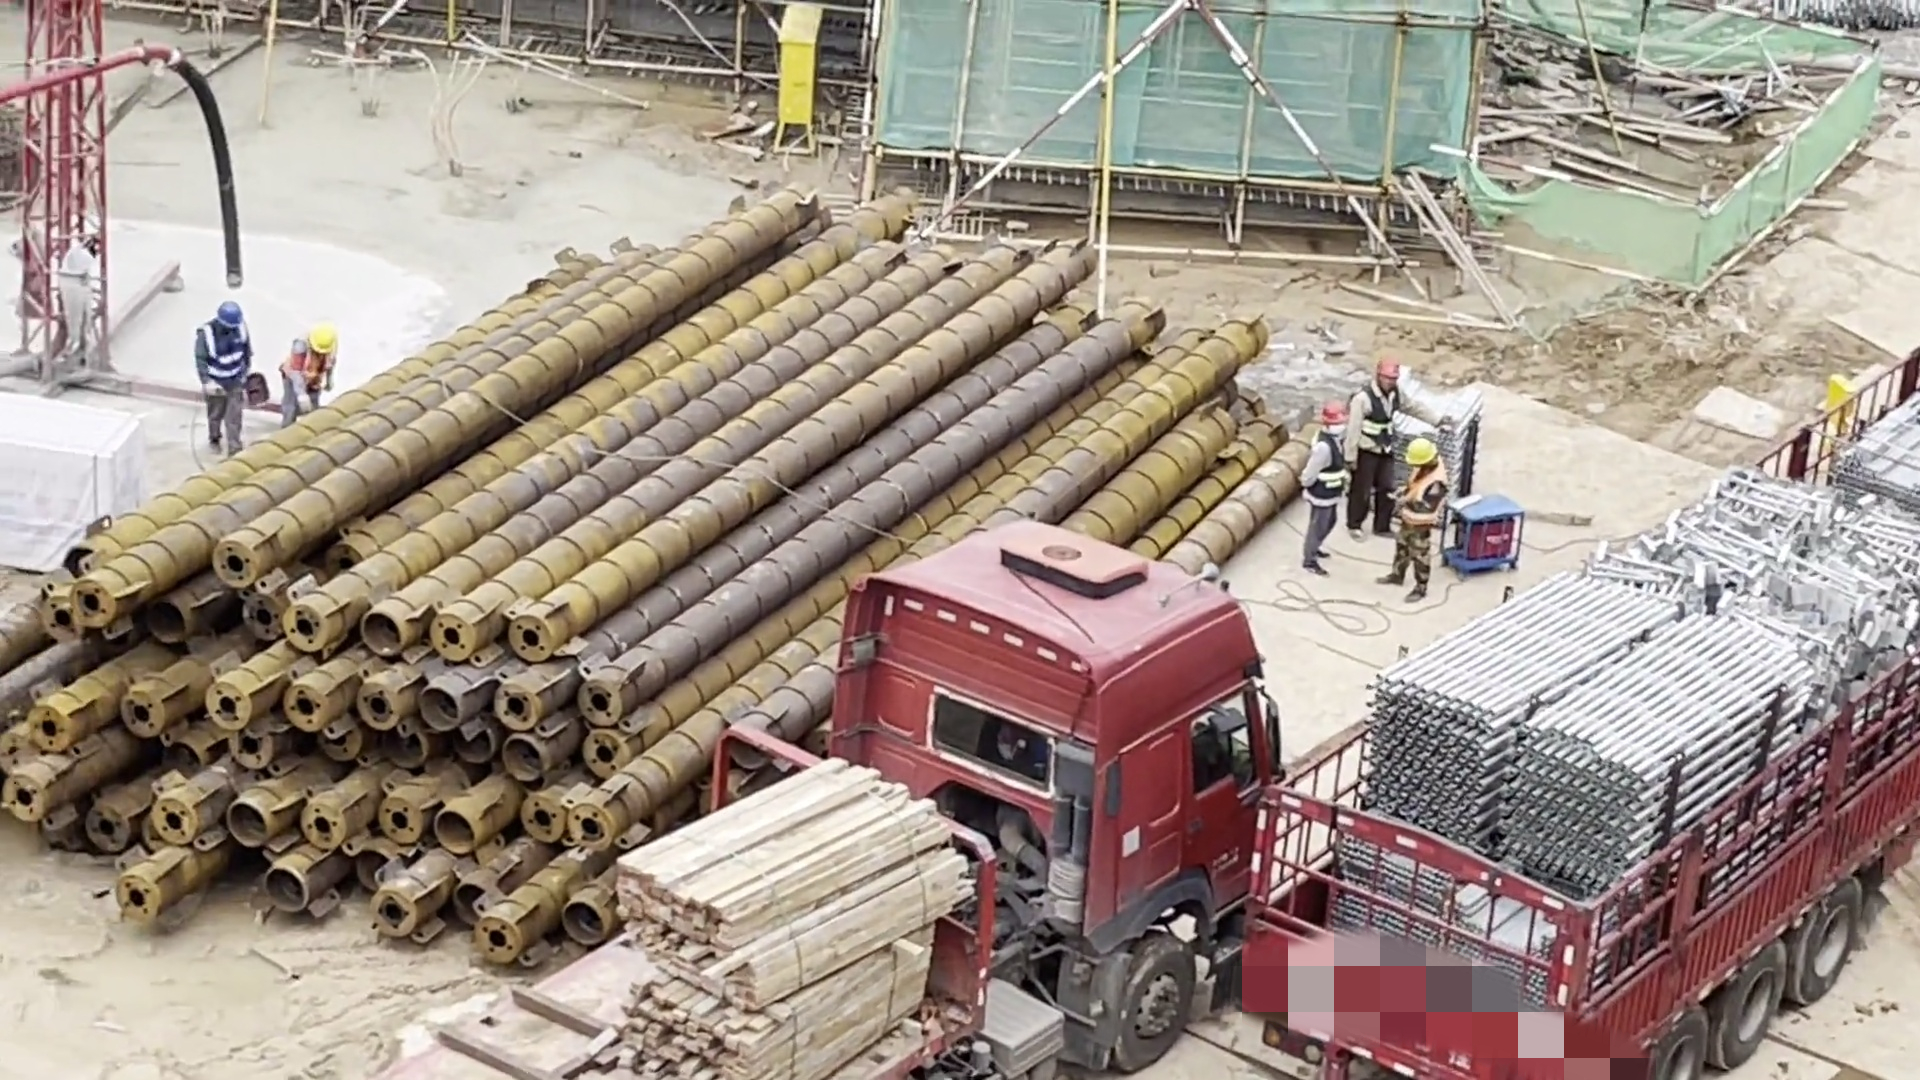helmet: (1317, 395, 1360, 429), (305, 319, 338, 355), (1405, 440, 1447, 463), (216, 300, 243, 330), (1378, 357, 1404, 383)
person: (1296, 393, 1353, 587), (1385, 435, 1451, 598), (196, 293, 254, 454), (1356, 354, 1403, 538), (280, 331, 351, 422)
vest: (1309, 437, 1351, 520), (1398, 465, 1446, 531), (197, 323, 240, 397), (1361, 380, 1401, 450), (283, 342, 331, 395)
